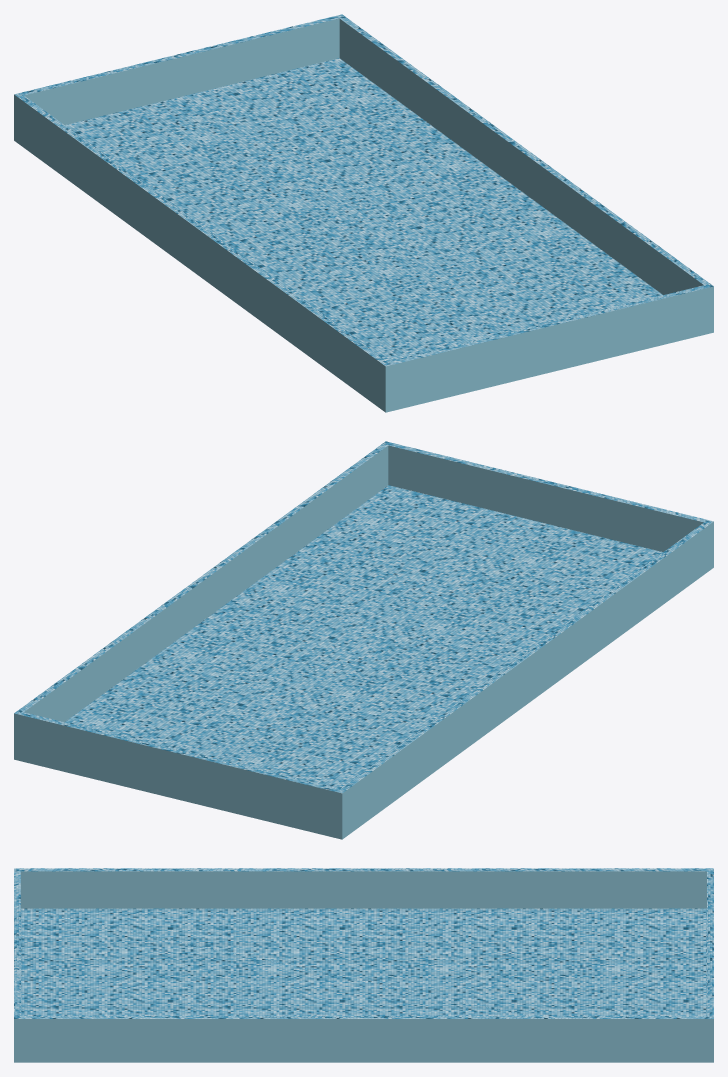
Rendered from pool.dae.
3 views of the same model, one above another, from view 1: azimuth 30°, elevation 25°; view 2: azimuth 150°, elevation 25°; view 3: azimuth 270°, elevation 25° (orthographic). The views are drawn at different scales.
Visible parts, largest first — view 1: Pool; view 2: Pool; view 3: Pool.
Part boxes in pixels (x1,y1,x2,y2): Pool: [14, 14, 713, 412]; Pool: [14, 441, 713, 839]; Pool: [14, 868, 713, 1062].
Bounding box in the file's own units: 26000 × 51000 × 3500.
Materials: 2 (1 with a texture image).
